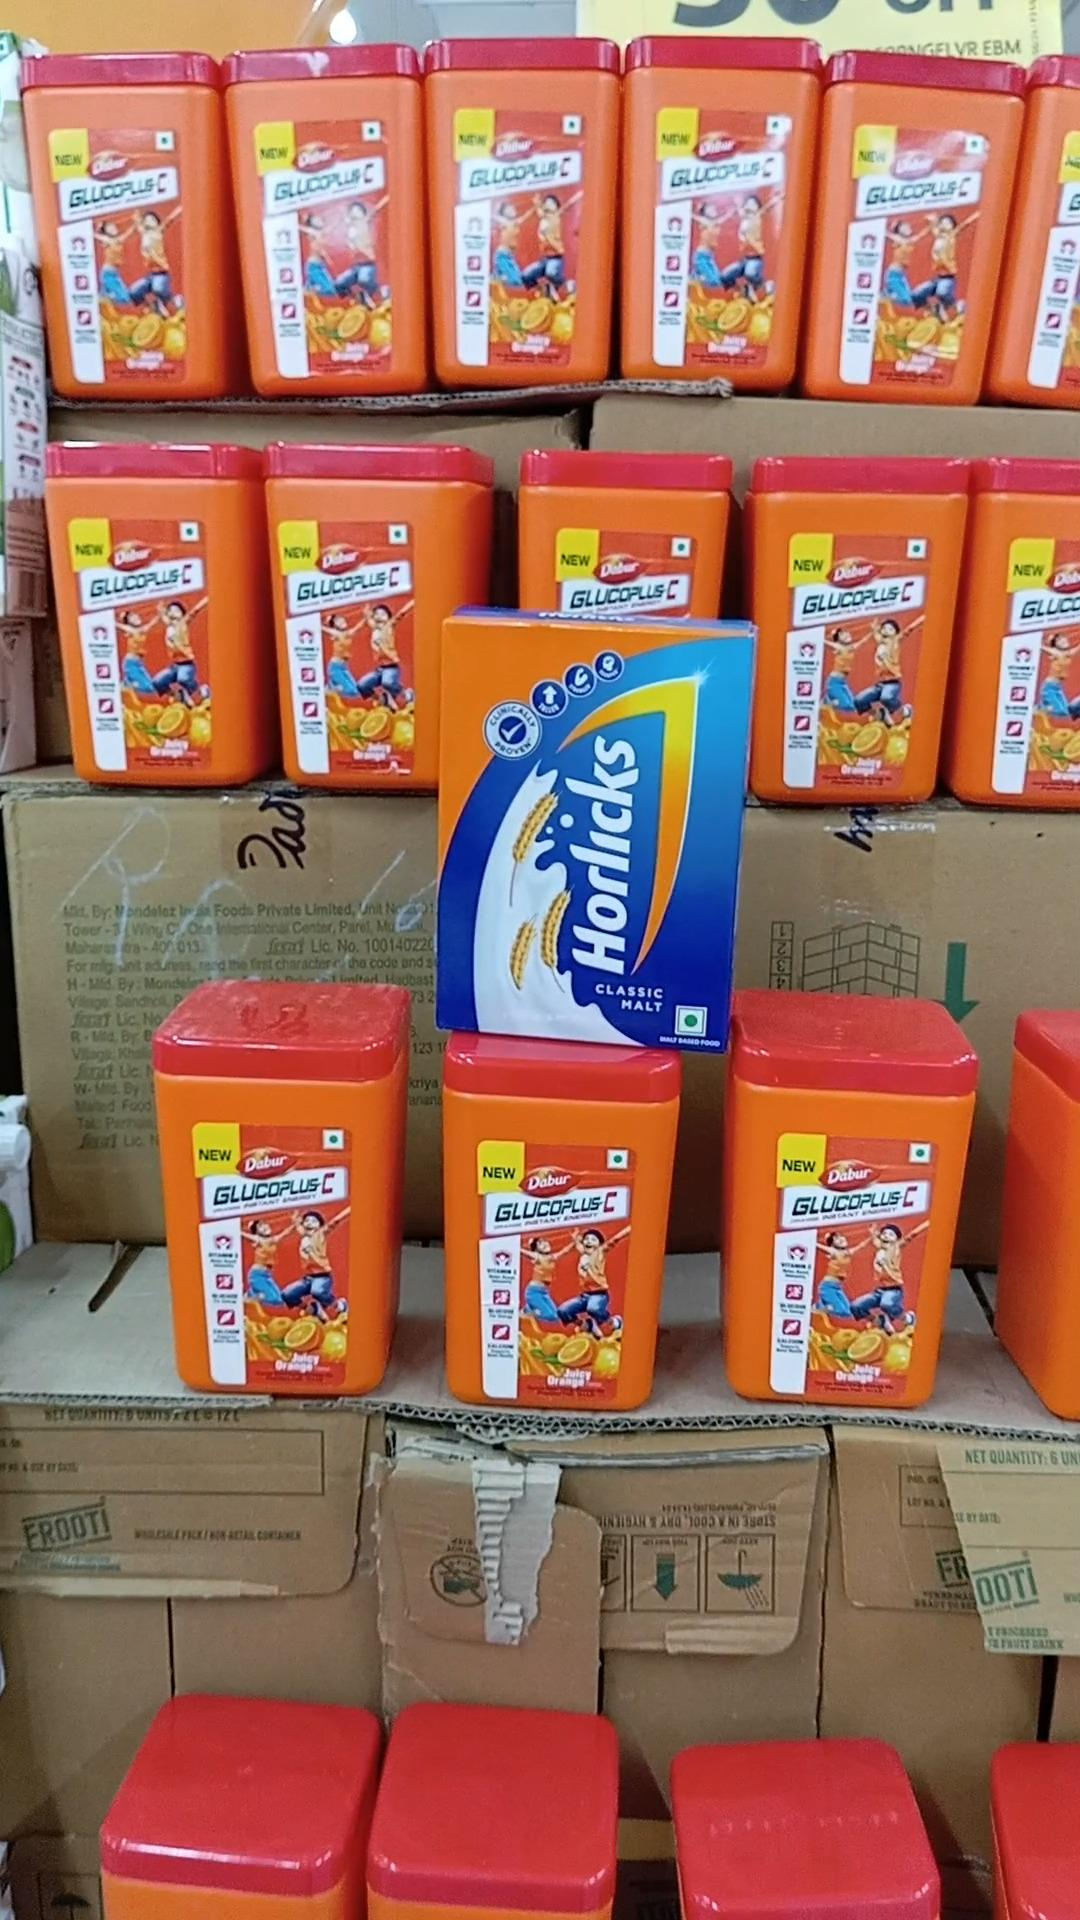HORLICK_CLASSIC_MALT_500_G_PACK: (435, 617, 738, 1043)
